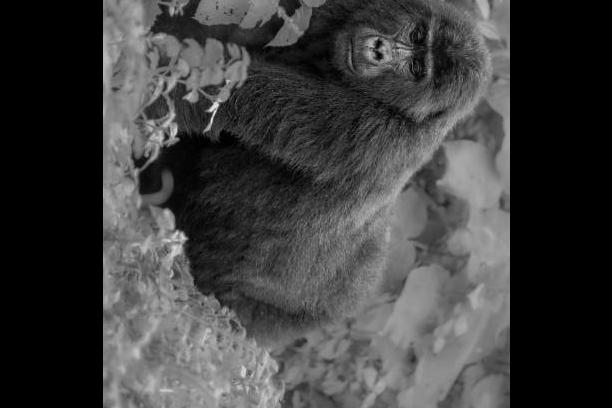goriile_montagne: (154, 0, 510, 396)
